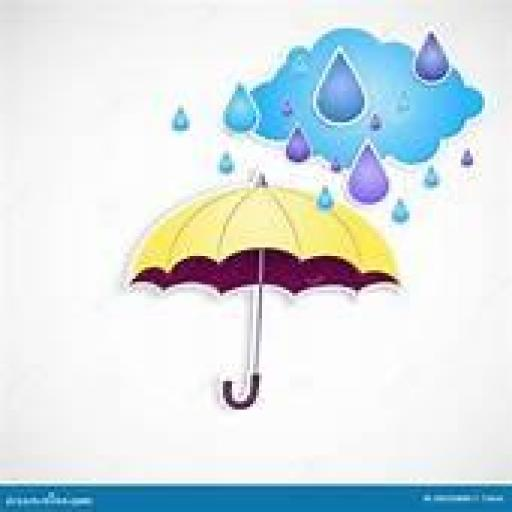guarda_chuva: (124, 168, 401, 407)
